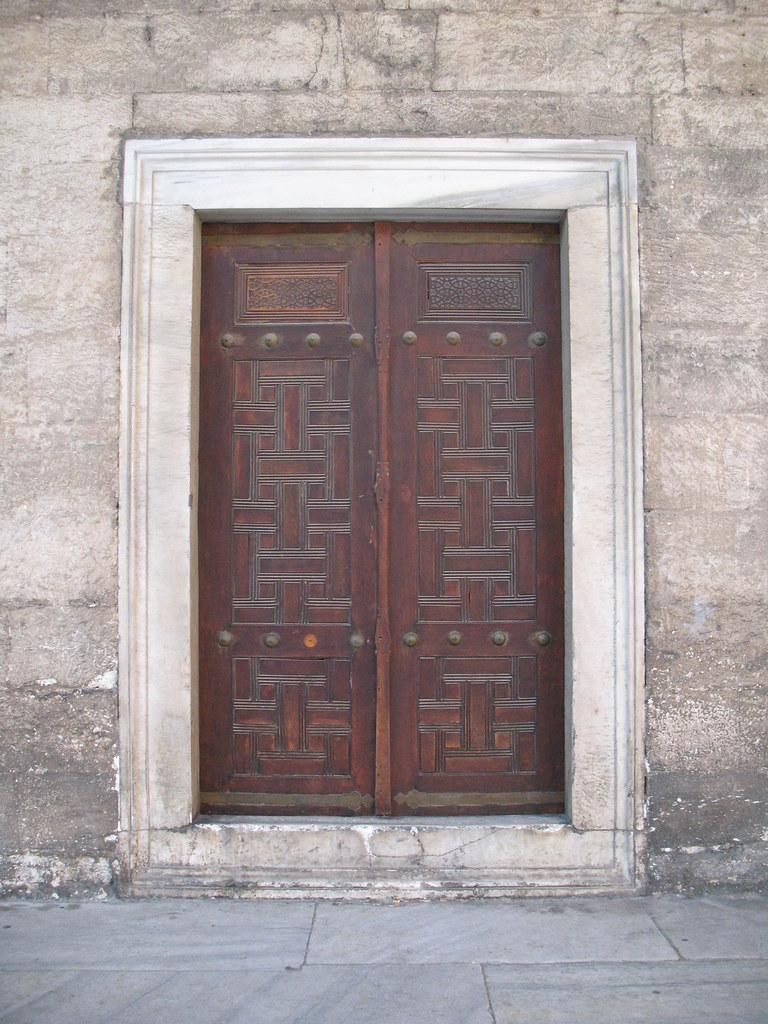door: (196, 217, 567, 818)
